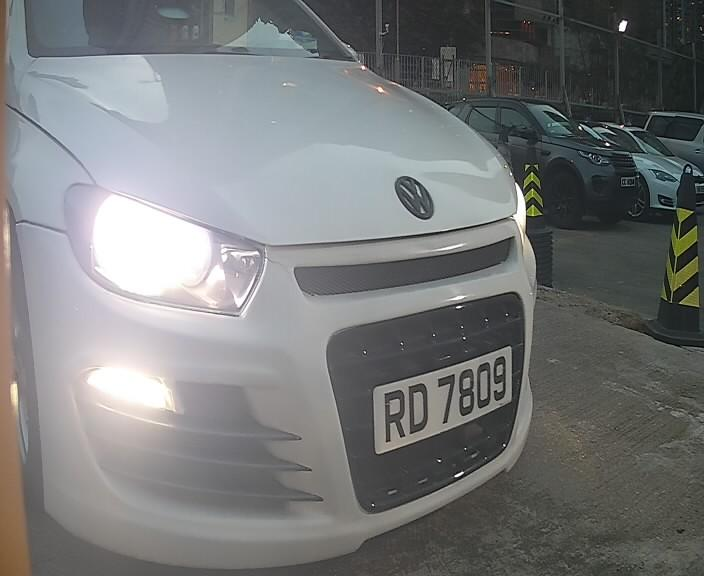Car: (13, 8, 598, 559)
License Plate: (362, 327, 529, 464)
